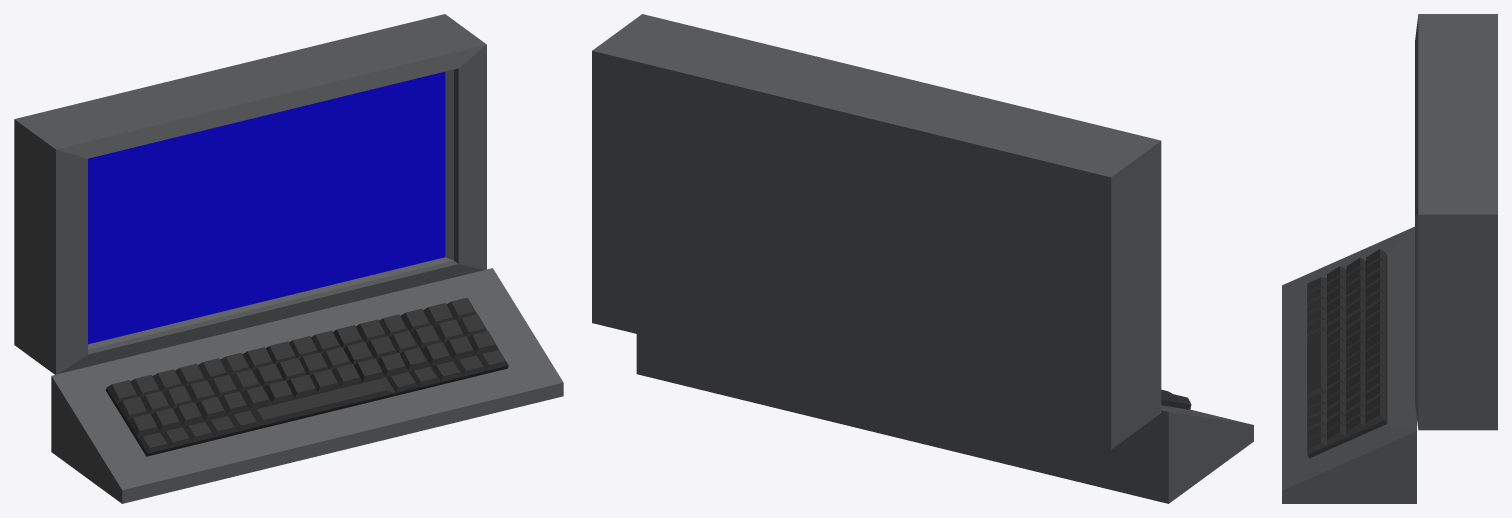
The model's file is Terminal.fbx.
3 renders of one model, left to right at view 1: azimuth 30°, elevation 25°; view 2: azimuth 150°, elevation 25°; view 3: azimuth 270°, elevation 25°, orthographic. The views are drawn at different scales.
Visible parts, largest first — view 1: Cube.001; view 2: Cube.001; view 3: Cube.001.
Boxes of the visible parts, x1=… form: Cube.001: x1=14, y1=14, x2=563, y2=503; Cube.001: x1=592, y1=14, x2=1253, y2=503; Cube.001: x1=1282, y1=14, x2=1497, y2=503.
Bounding box in the file's own units: 48.12 × 108 × 70.53.
